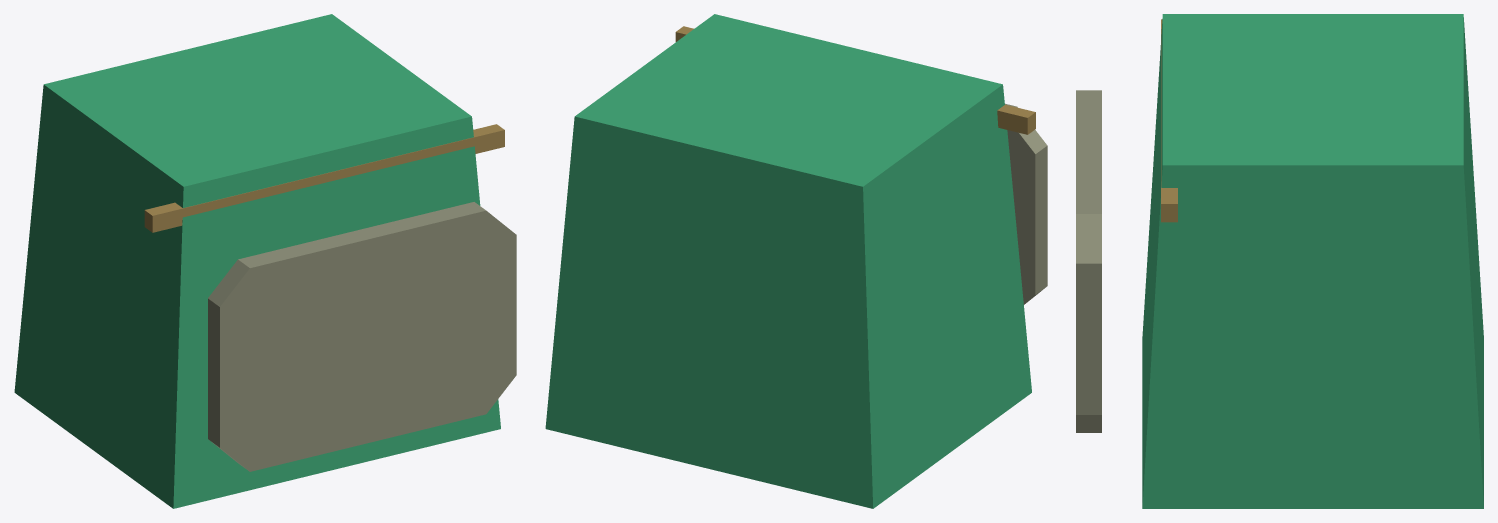
Rendered from jade_block.obj.
The picture shows the model from 3 angles, left to right: view 1: azimuth 30°, elevation 25°; view 2: azimuth 150°, elevation 25°; view 3: azimuth 270°, elevation 25°; orthographic projection. The views are drawn at different scales.
Visible parts, largest first — view 1: jade_block, jade_inset, jade_inset_edge, jade_block_shoulder, jade_block_shoulder_edge; view 2: jade_block, jade_inset, jade_inset_edge, jade_block_shoulder; view 3: jade_block, jade_inset_edge, jade_block_shoulder_edge.
Part boxes in pixels (x1,y1,x2,y2): jade_block: (14, 14, 500, 508); jade_inset: (220, 210, 516, 471); jade_inset_edge: (208, 202, 485, 470); jade_block_shoulder: (152, 130, 504, 232); jade_block_shoulder_edge: (144, 124, 504, 232); jade_block: (545, 14, 1031, 508); jade_inset: (1007, 130, 1035, 303); jade_inset_edge: (1005, 103, 1047, 304); jade_block_shoulder: (675, 32, 1027, 134); jade_block: (1142, 14, 1483, 508); jade_inset_edge: (1076, 90, 1101, 432); jade_block_shoulder_edge: (1161, 19, 1177, 222).
Bounding box in the file's own units: 0.76 × 0.64 × 0.7095.
